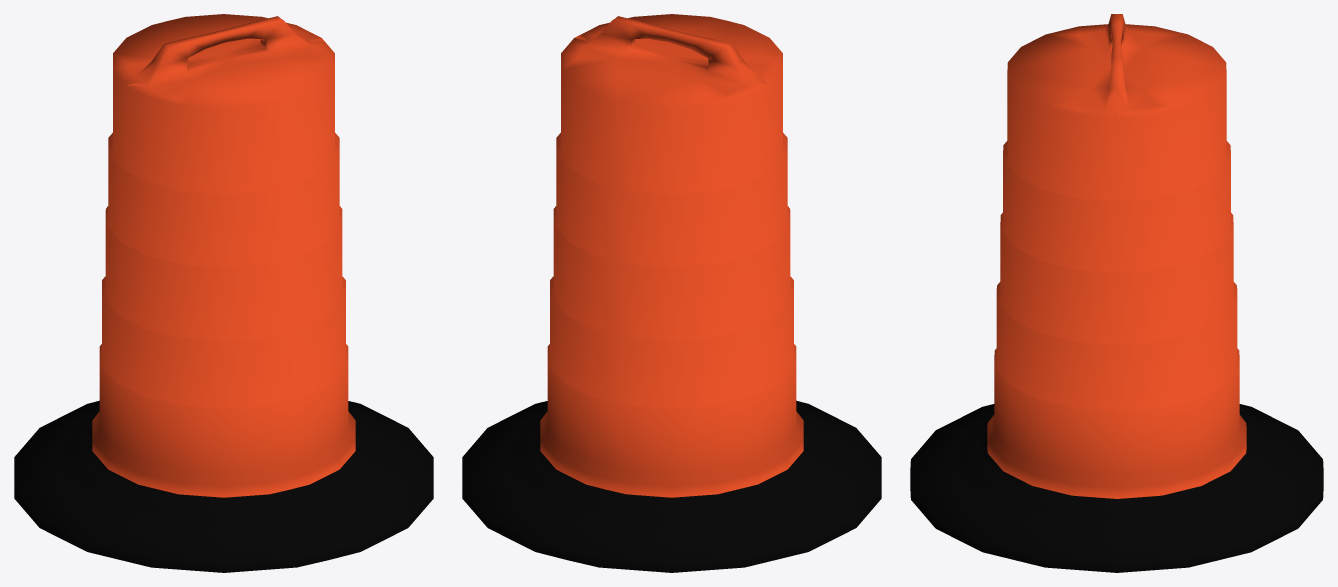
Rendered from trafficdrum.glb.
3 views of the same model, side by side, from view 1: azimuth 30°, elevation 25°; view 2: azimuth 150°, elevation 25°; view 3: azimuth 270°, elevation 25° (orthographic).
Parts seen in each view (by area): view 1: traffic-drum; view 2: traffic-drum; view 3: traffic-drum.
Part boxes in pixels (x1,y1,x2,y2): traffic-drum: (14, 14, 433, 572); traffic-drum: (462, 14, 881, 572); traffic-drum: (910, 14, 1323, 572).
Size of the model in its own units: 0.8822 by 1.03 by 0.8718.
